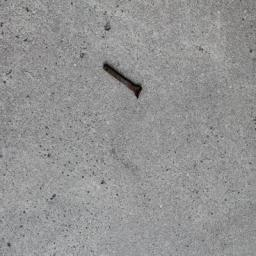FOD: (98, 61, 146, 102)
